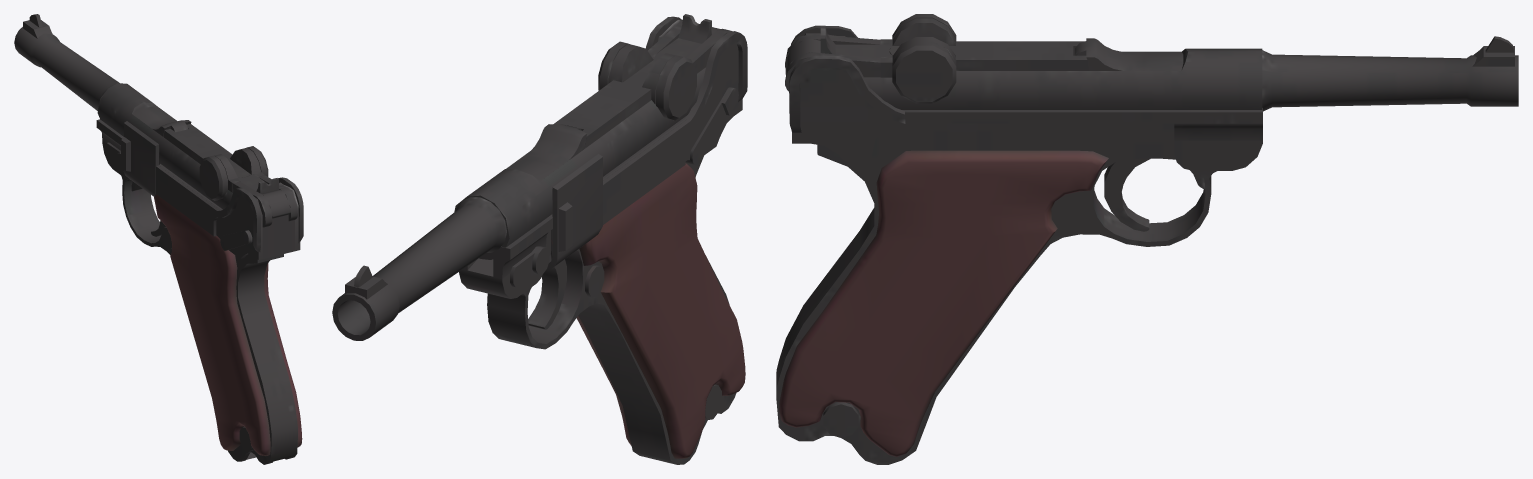
Rendered from luger.glb.
3 views of the same model, side by side, from view 1: azimuth 30°, elevation 25°; view 2: azimuth 150°, elevation 25°; view 3: azimuth 270°, elevation 25° (orthographic). The views are drawn at different scales.
Parts seen in each view (by area): view 1: body; view 2: body; view 3: body.
Boxes of the visible parts, x1=… form: body: x1=14, y1=14, x2=303, y2=464; body: x1=332, y1=14, x2=747, y2=464; body: x1=776, y1=14, x2=1518, y2=464.
Bounding box in the file's own units: 0.0264 × 0.1405 × 0.222.
Materials: 1 (1 with a texture image).
